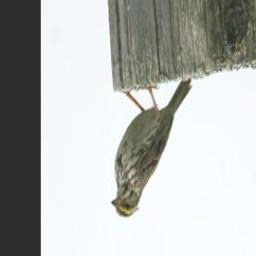Sparrow: (110, 75, 192, 219)
